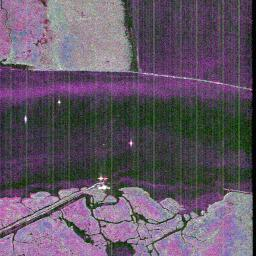Ship: (21, 114, 28, 125), (96, 174, 107, 181), (56, 97, 62, 107), (127, 139, 134, 147)
